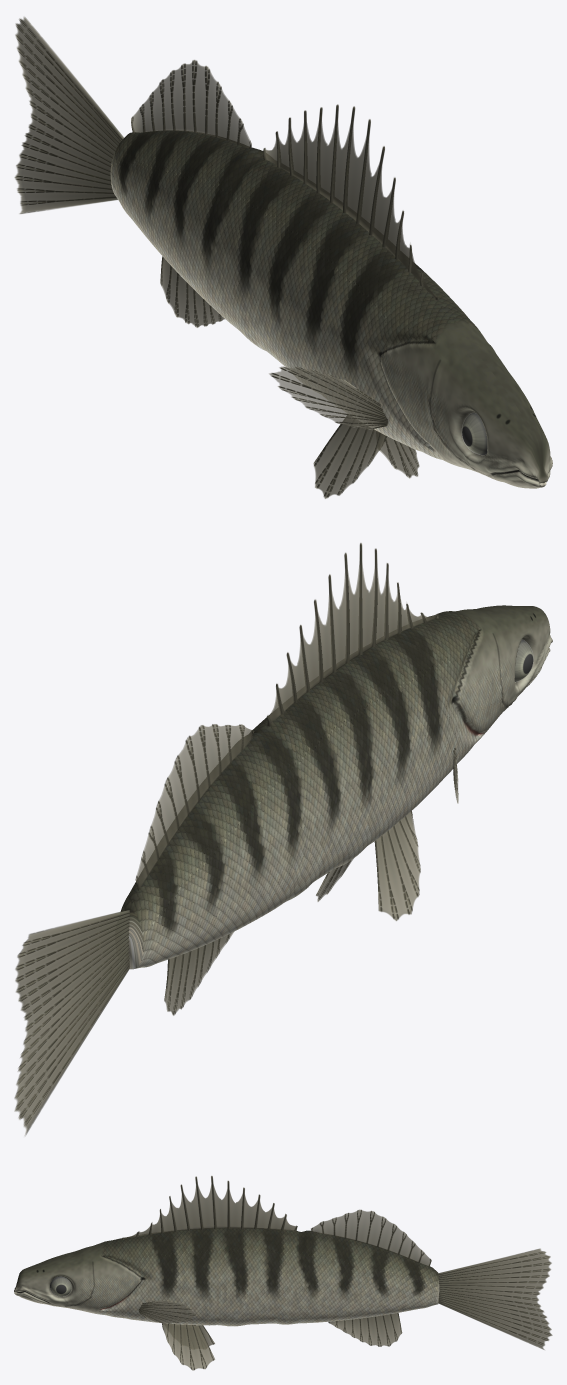
The model's file is sandacz_wolzanski.glb.
The picture shows the model from 3 angles, top to bottom: view 1: azimuth 30°, elevation 25°; view 2: azimuth 150°, elevation 25°; view 3: azimuth 270°, elevation 25°; orthographic projection. The views are drawn at different scales.
Visible parts, largest first — view 1: Body, FinCaudal, FinDorsal1, FinDorsal2, FinPelvic, FinPectoral, FinAnal, EyeLeft, CorneaLeft; view 2: Body, FinCaudal, FinDorsal1, FinDorsal2, FinPelvic, FinAnal; view 3: Body, FinCaudal, FinDorsal1, FinDorsal2, FinPelvic, FinAnal, FinPectoral, EyeRight, CorneaRight.
Part boxes in pixels (x1=…): Body: x1=110, y1=130, x2=552, y2=488; FinCaudal: x1=14, y1=17, x2=123, y2=213; FinDorsal1: x1=263, y1=104, x2=438, y2=301; FinDorsal2: x1=131, y1=60, x2=251, y2=148; FinPelvic: x1=313, y1=415, x2=419, y2=498; FinPectoral: x1=269, y1=366, x2=388, y2=429; FinAnal: x1=160, y1=256, x2=224, y2=327; EyeLeft: x1=462, y1=413, x2=487, y2=454; CorneaLeft: x1=462, y1=413, x2=486, y2=454; Body: x1=120, y1=605, x2=552, y2=969; FinCaudal: x1=14, y1=910, x2=129, y2=1135; FinDorsal1: x1=266, y1=543, x2=438, y2=726; FinDorsal2: x1=135, y1=724, x2=254, y2=890; FinPelvic: x1=316, y1=811, x2=420, y2=920; FinAnal: x1=164, y1=932, x2=233, y2=1015; Body: x1=14, y1=1228, x2=439, y2=1326; FinCaudal: x1=438, y1=1248, x2=552, y2=1349; FinDorsal1: x1=122, y1=1176, x2=297, y2=1239; FinDorsal2: x1=311, y1=1209, x2=431, y2=1266; FinPelvic: x1=162, y1=1323, x2=214, y2=1370; FinAnal: x1=328, y1=1313, x2=402, y2=1346; FinPectoral: x1=138, y1=1300, x2=196, y2=1323; EyeRight: x1=50, y1=1276, x2=71, y2=1296; CorneaRight: x1=50, y1=1276, x2=71, y2=1296.
Bounding box in the file's own units: 0.2056 × 0.3959 × 1.
9 materials, 8 textured.
